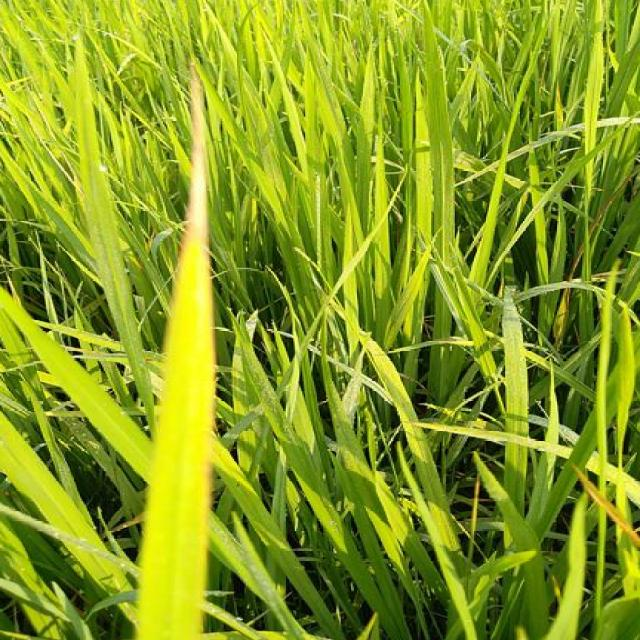Leaf Streak: (167, 76, 213, 369)
